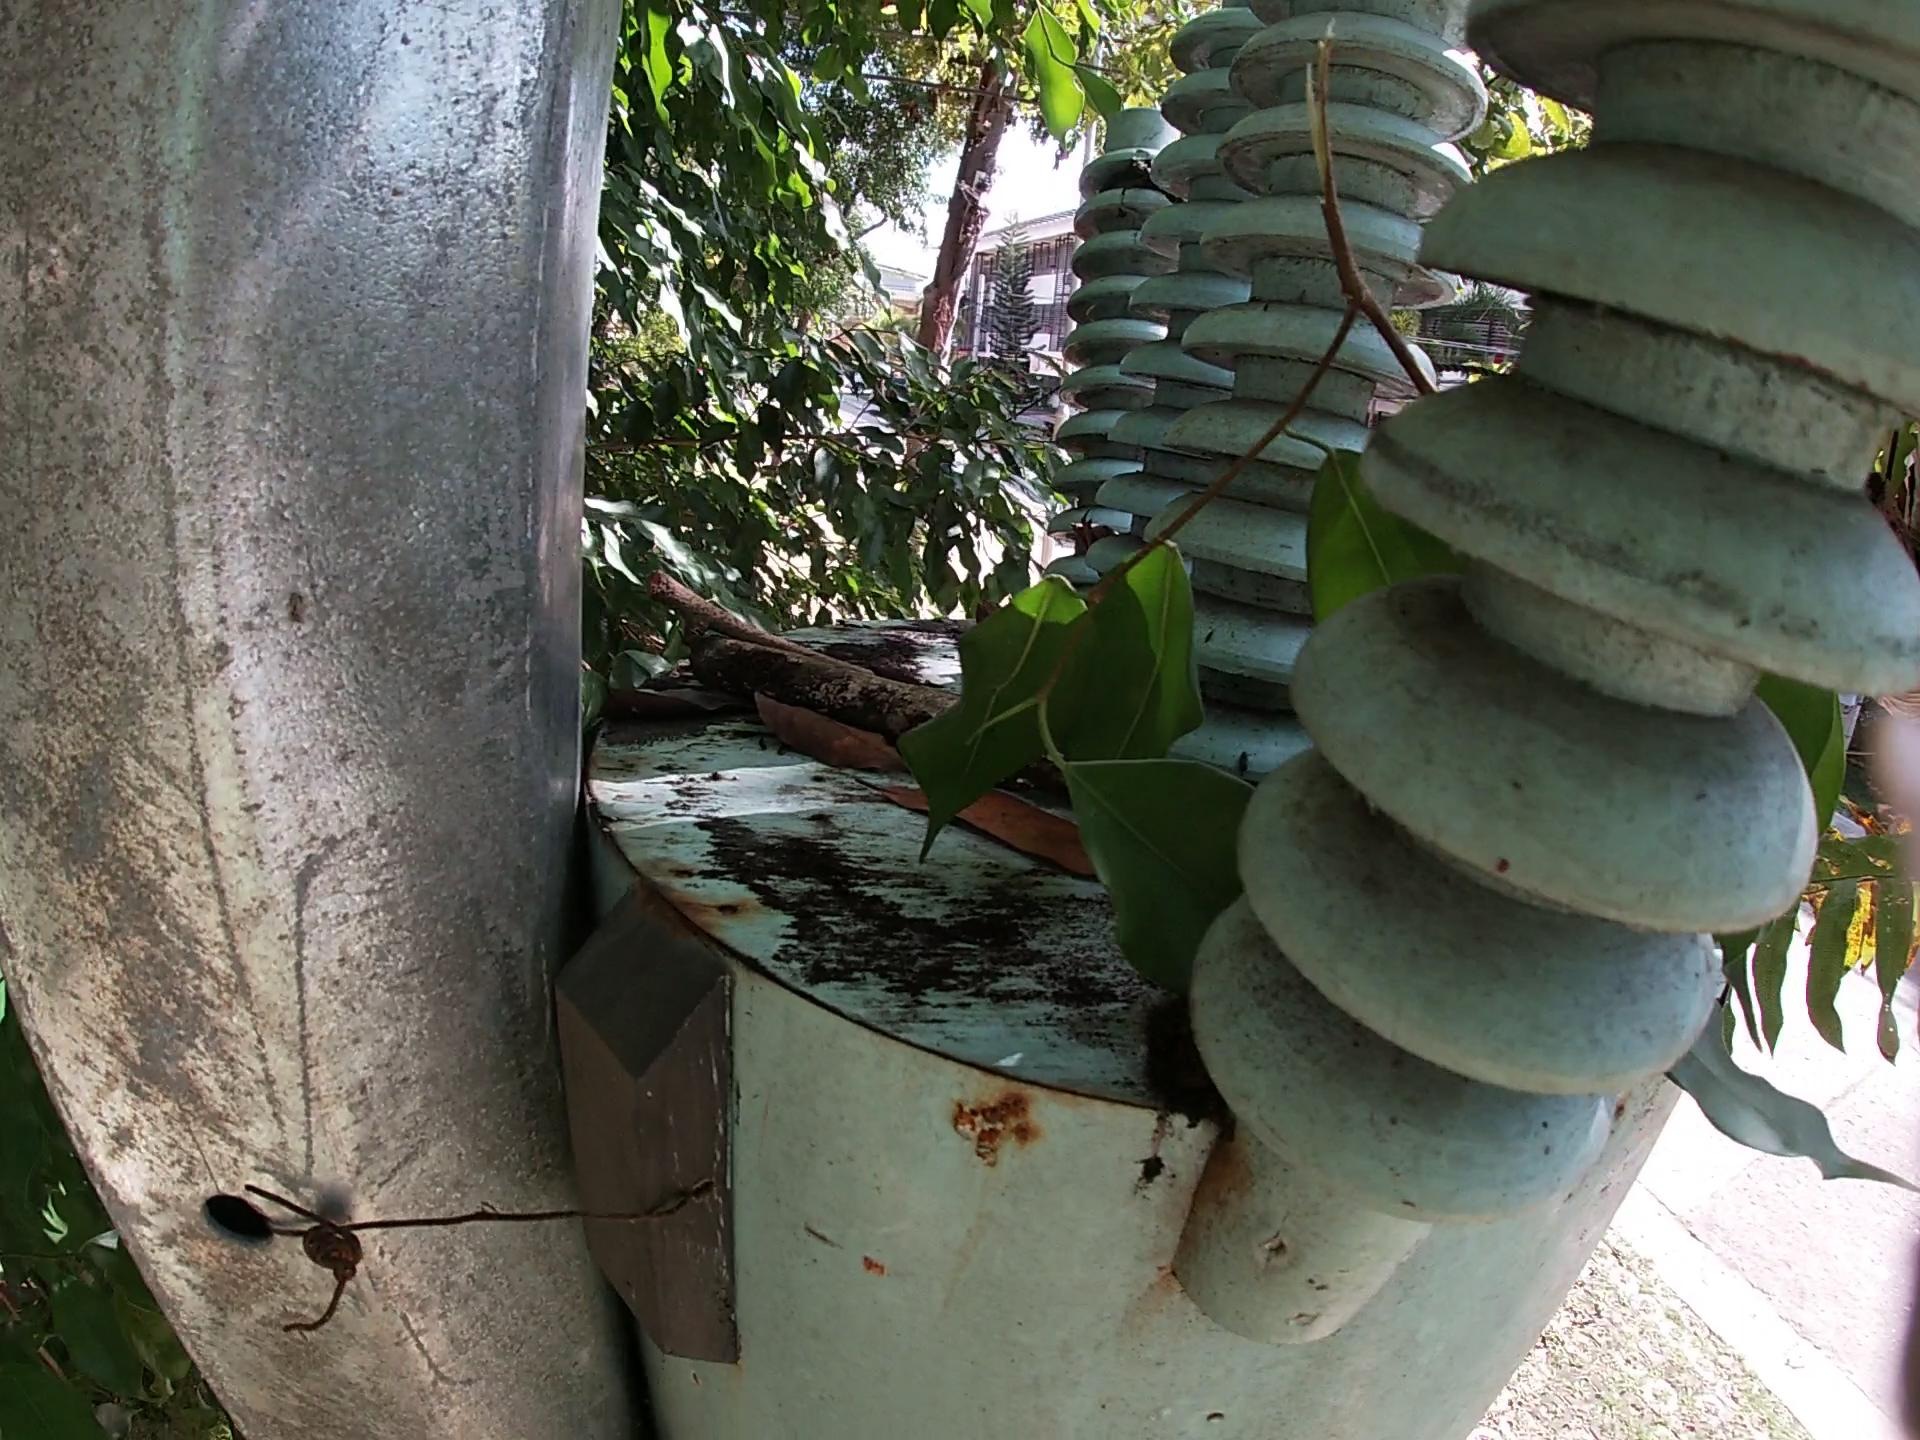branch with leaves: (903, 29, 1469, 979)
leaf: (1669, 637, 1908, 1248), (869, 759, 1113, 905), (756, 697, 943, 777), (615, 684, 738, 743)
tree branch: (647, 570, 884, 672), (682, 643, 955, 729)
